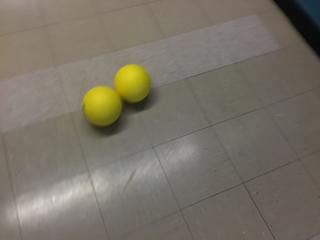power_cell: (81, 85, 124, 128), (114, 63, 153, 107)
